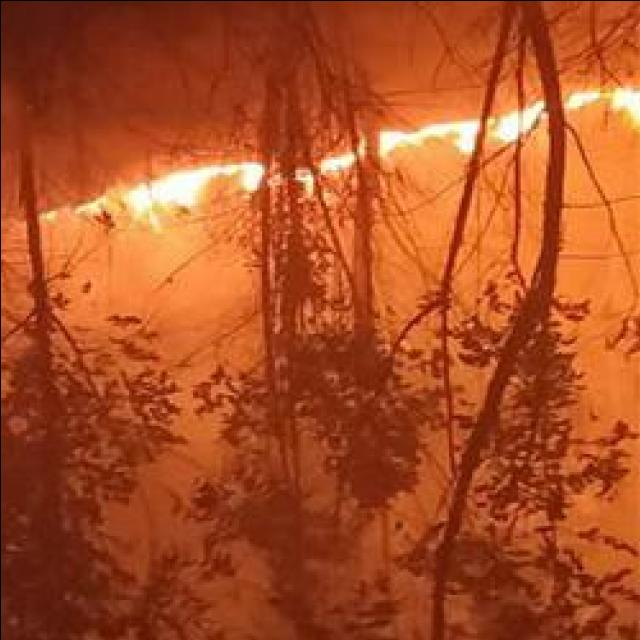fire: (565, 81, 639, 131), (373, 118, 478, 152), (154, 166, 210, 204), (492, 105, 540, 144), (123, 184, 163, 227), (208, 159, 260, 189)
